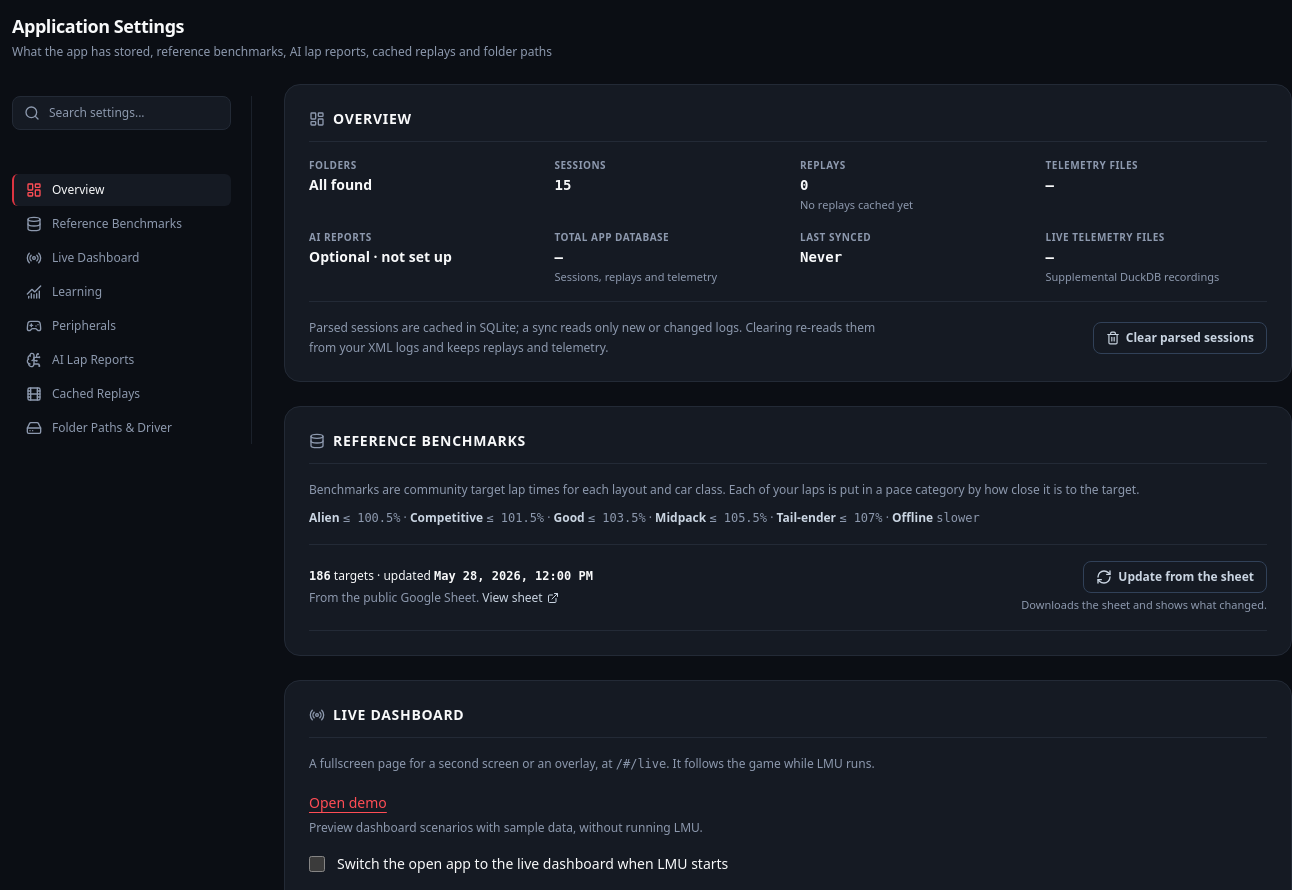
Test: Settings component › filters settings cards and TOC items via search input and clears search
Expected: the text "No replays cached yet" is shown, [800,197,913,212]
Expected: the heading "Overview" is shown, [309,109,412,129]
Type "gemini" into the field labelled "Search settings..." at (122, 113), box [12,96,231,130]
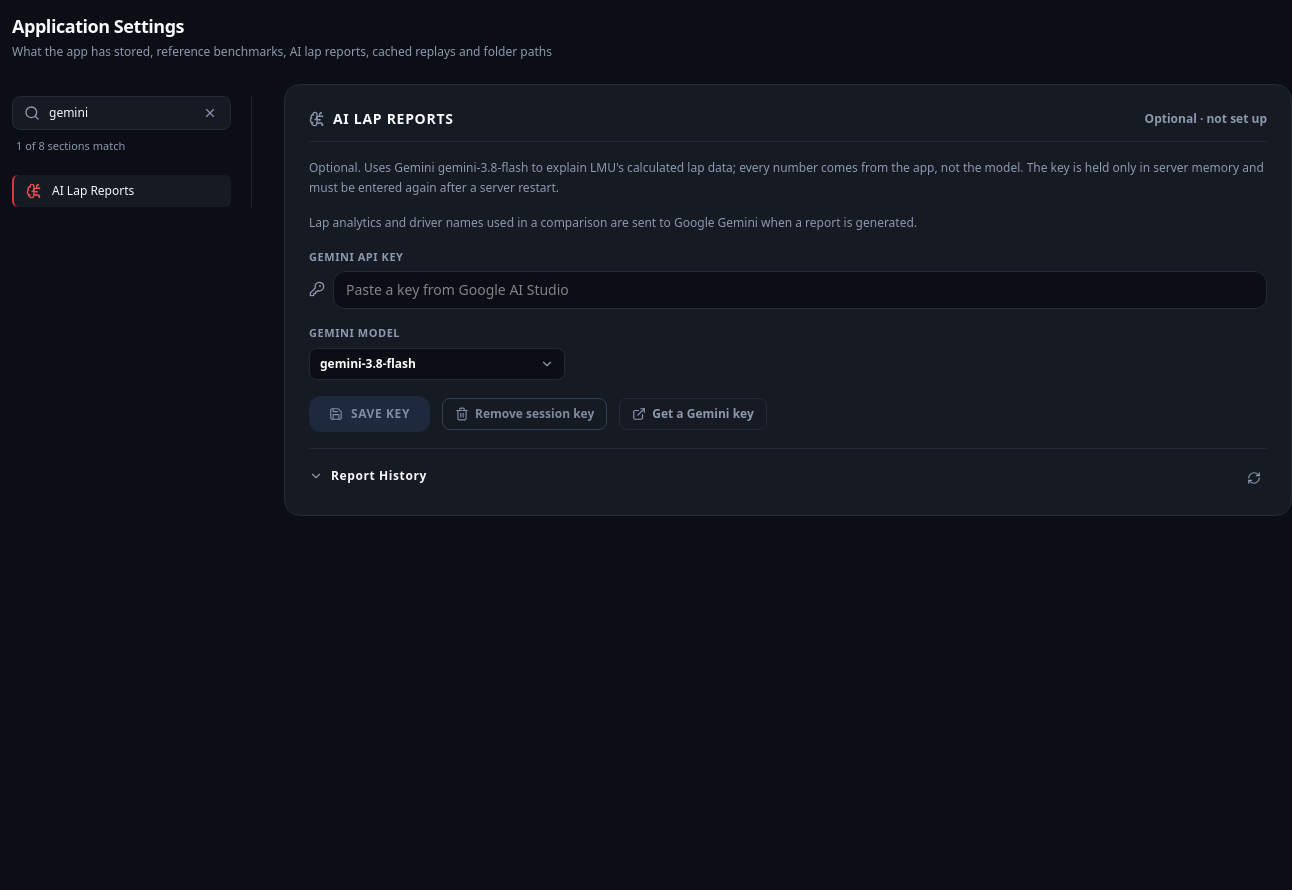
Expected: the heading "AI Lap Reports" is shown, [309,109,454,129]
Result: the text "1 of 8 sections match" is shown at [16,138,125,153]
# Clear search using the one clear button in the input
Click the button named "clear search" at (210, 113), box [199,102,221,124]
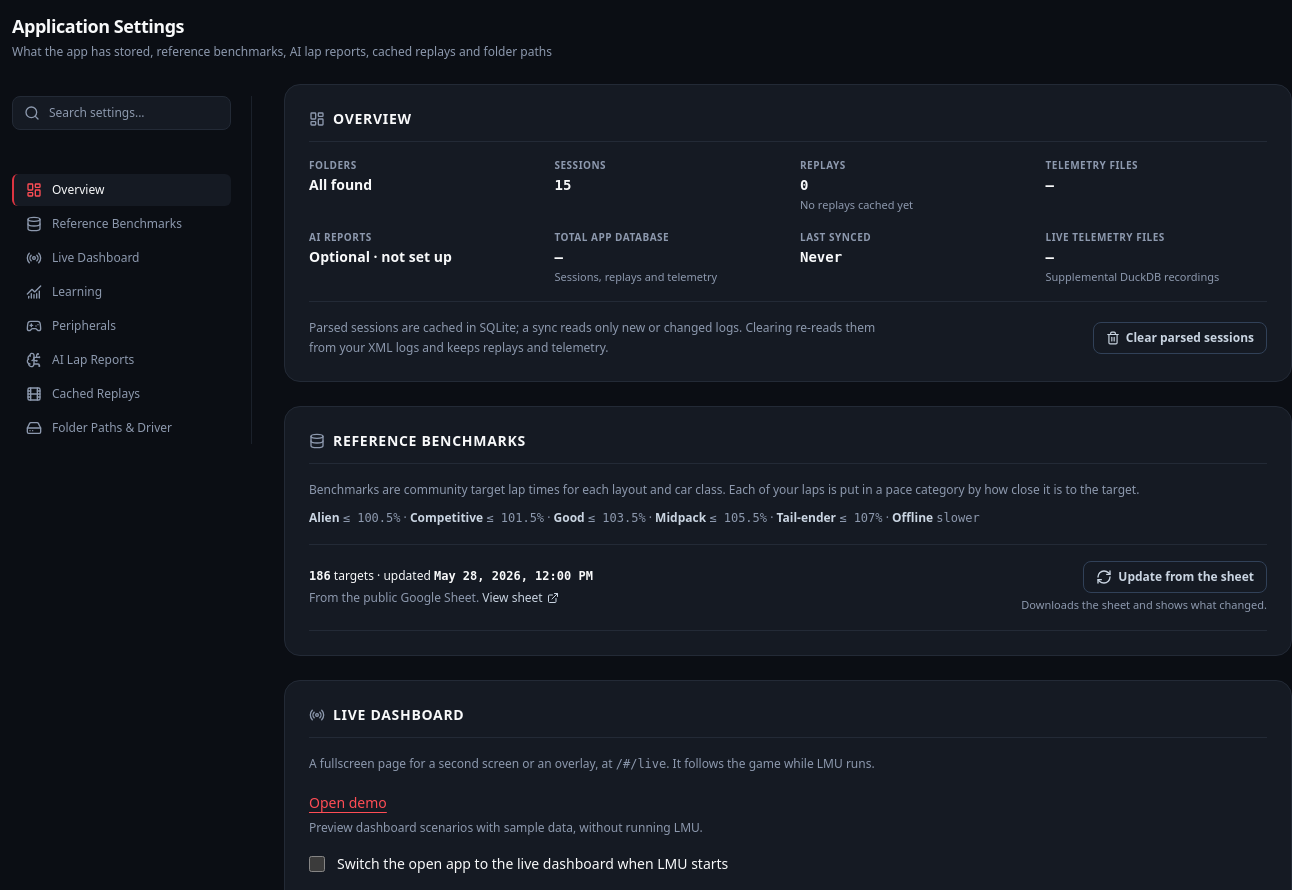
Result: the field labelled "Search settings..." is empty at [12,96,231,130]
Result: the heading "Overview" is shown at [309,109,412,129]
Result: the text "No replays cached yet" is shown at [800,197,913,212]
